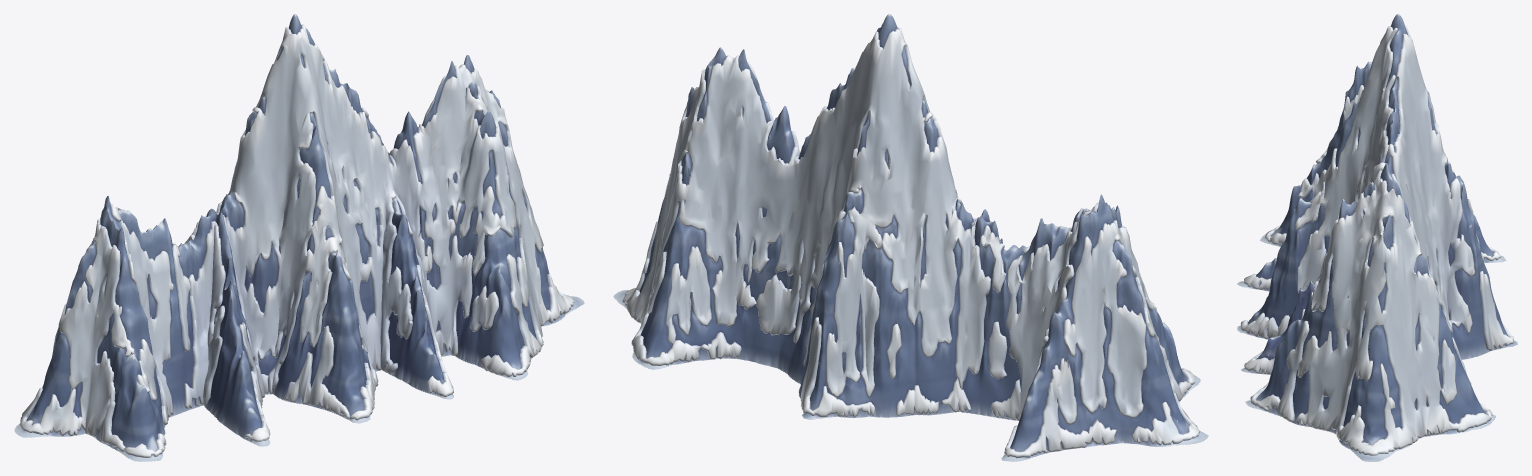
Rendered from FP_B02_ThreePeakRidge.fbx.
The picture shows the model from 3 angles, left to right: view 1: azimuth 30°, elevation 25°; view 2: azimuth 150°, elevation 25°; view 3: azimuth 270°, elevation 25°; orthographic projection. The views are drawn at different scales.
Visible parts, largest first — view 1: SnowCap_LOD0, Rock_LOD0; view 2: SnowCap_LOD0, Rock_LOD0; view 3: SnowCap_LOD0, Rock_LOD0.
Part boxes in pixels (x1,y1,x2,y2): SnowCap_LOD0: (20, 24, 574, 457); Rock_LOD0: (14, 14, 584, 461); SnowCap_LOD0: (622, 23, 1199, 458); Rock_LOD0: (613, 14, 1208, 461); SnowCap_LOD0: (1240, 25, 1513, 455); Rock_LOD0: (1237, 14, 1517, 461).
Size of what is drawn, in the model's own units: 48 by 28 by 22.
